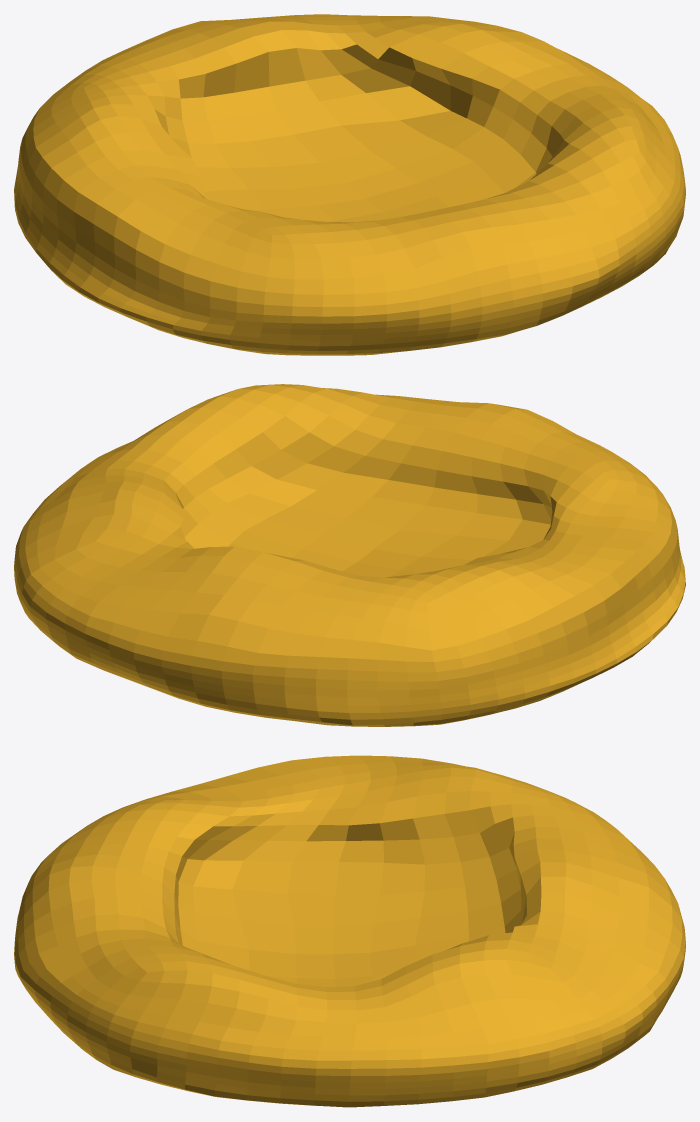
Rendered from Tierra.fbx.
3 renders of one model, top to bottom at view 1: azimuth 30°, elevation 25°; view 2: azimuth 150°, elevation 25°; view 3: azimuth 270°, elevation 25°, orthographic. The views are drawn at different scales.
Visible parts, largest first — view 1: tierra; view 2: tierra; view 3: tierra.
Boxes of the visible parts, x1,y1,x2,y2 form: tierra: (14, 14, 685, 355); tierra: (14, 384, 685, 726); tierra: (14, 755, 685, 1107).
Bounding box in the file's own units: 349 × 86.77 × 350.
